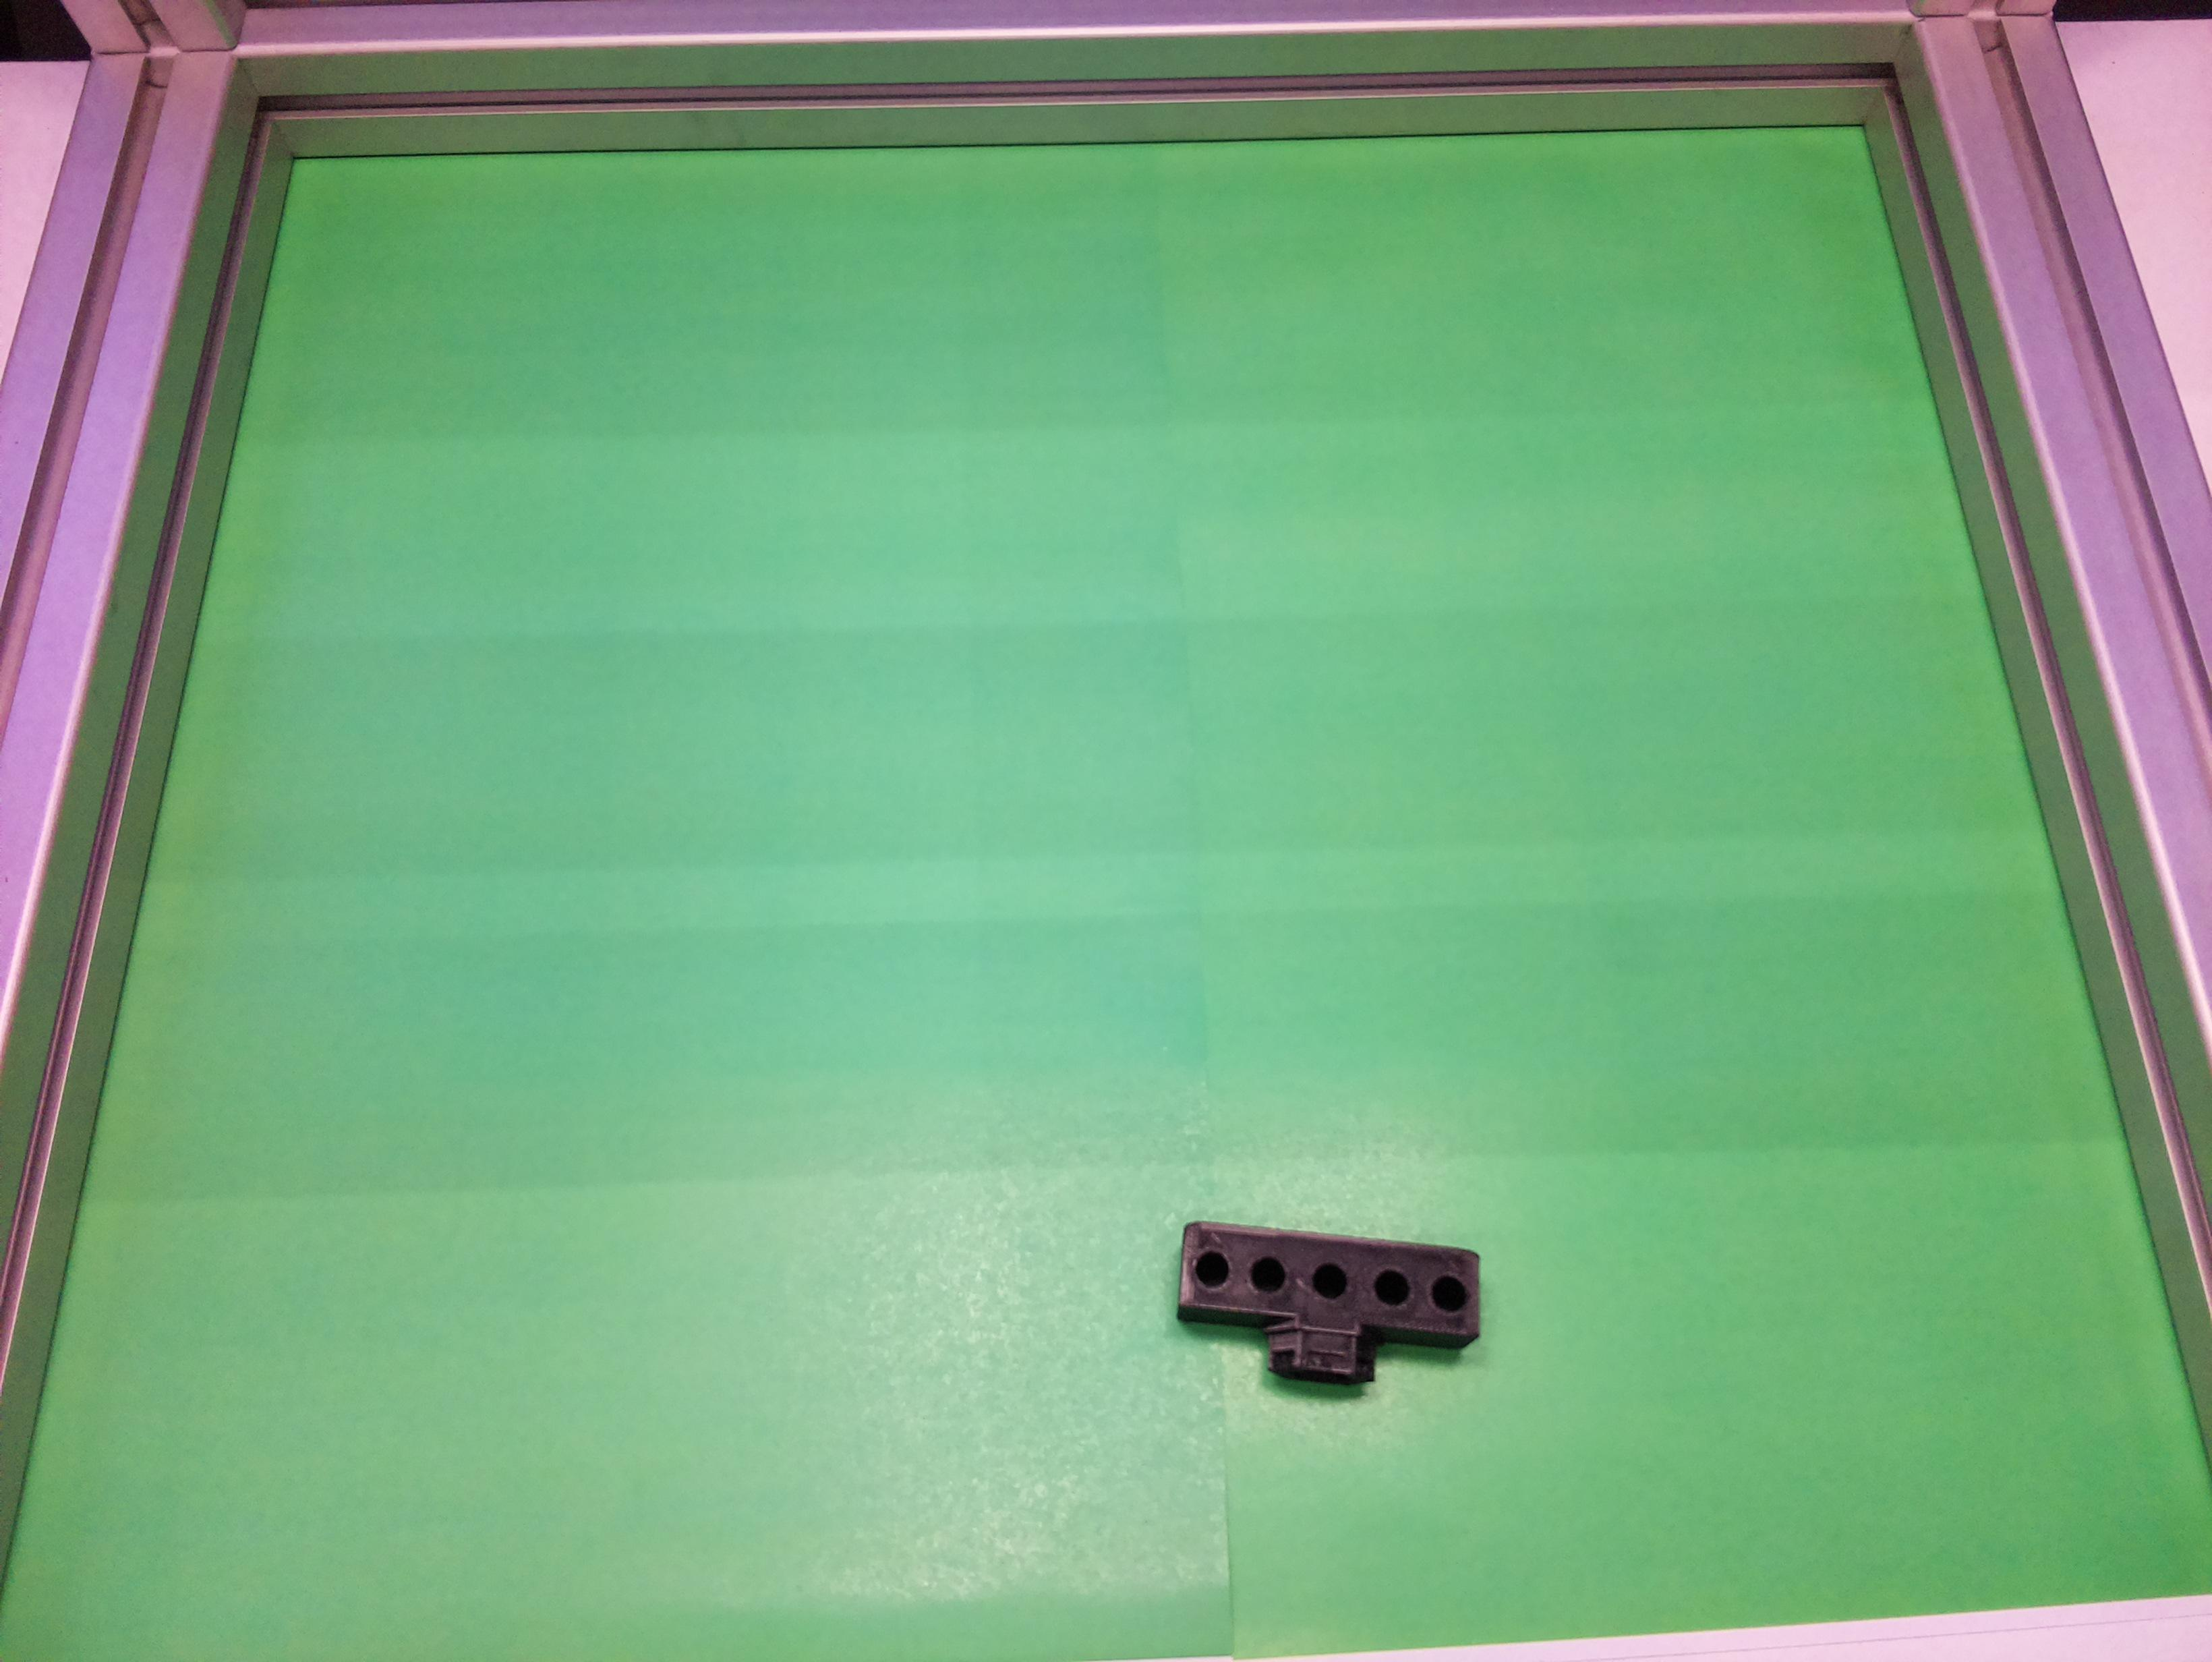bit_holder: (1168, 1219, 1487, 1398)
